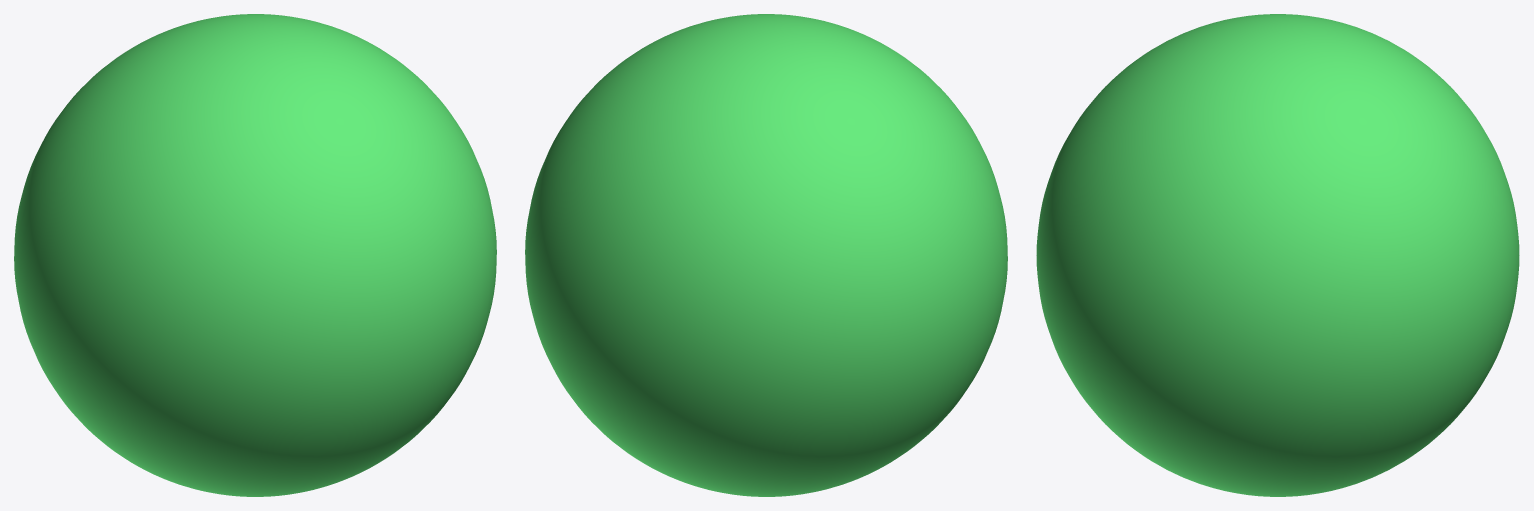
File: roughWaveBall.glb
The picture shows the model from 3 angles, left to right: view 1: azimuth 30°, elevation 25°; view 2: azimuth 150°, elevation 25°; view 3: azimuth 270°, elevation 25°; orthographic projection.
Visible parts, largest first — view 1: Sphere; view 2: Sphere; view 3: Sphere.
Part boxes in pixels (x1,y1,x2,y2): Sphere: (14,14,496,496); Sphere: (525,14,1007,496); Sphere: (1036,14,1519,496).
Size of the model in its own units: 0.1 by 0.1 by 0.1.
